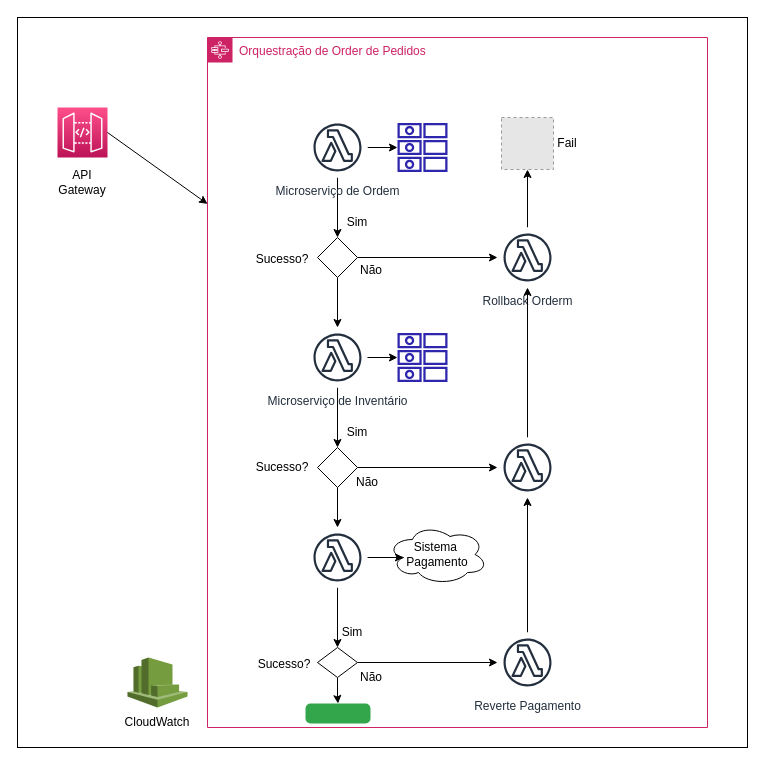
The diagram is 765 pixels wide and 765 high, and some of its shapes have lost their labels. Grey dashed boxes stand in for pictures. The shapes that lost their labels are listed below. From the top down, each one's box as (x1, y1, x2, y2) in pixels, then its label:
(496, 436, 558, 498): Reverte Iventário
(306, 526, 368, 588): Microserviço de Pagamento
(305, 703, 370, 723): Success
